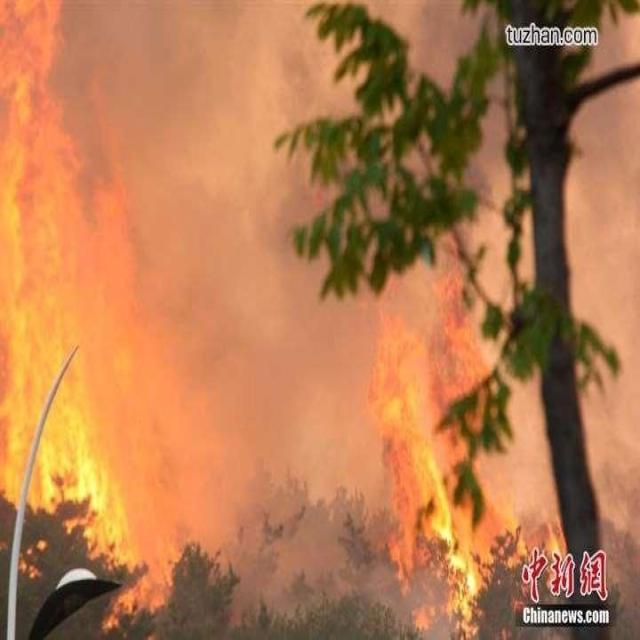Fire: (0, 1, 182, 632), (368, 234, 567, 640)
Smoke: (58, 1, 640, 640)
